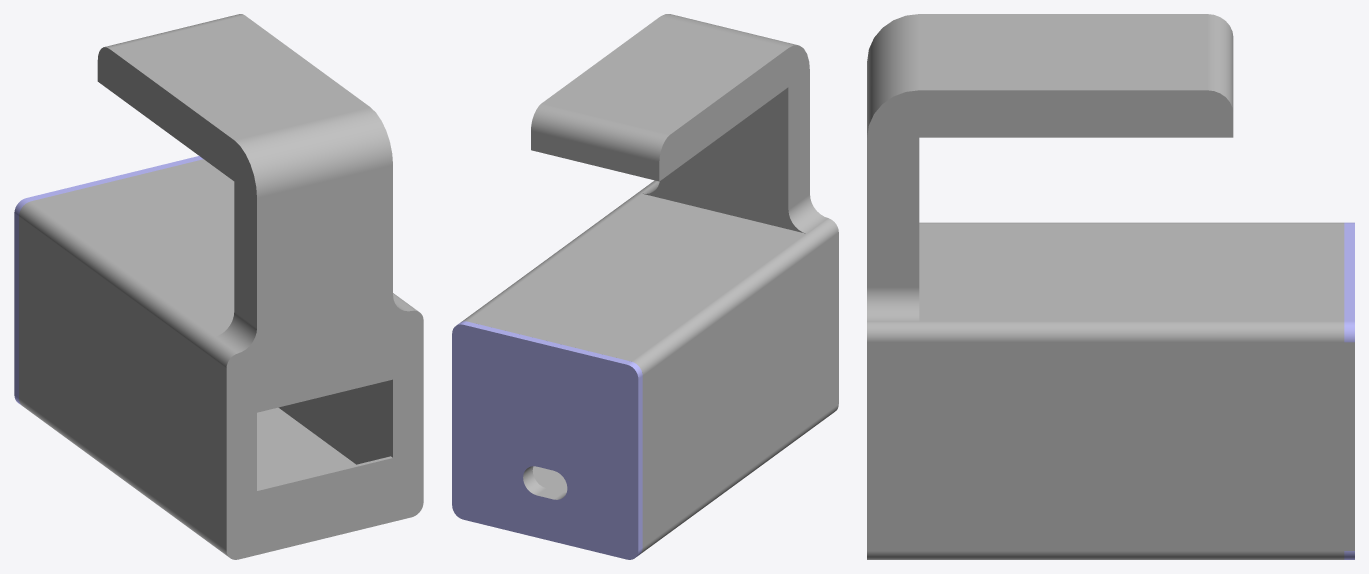
The model's file is esp32-case.glb.
The picture shows the model from 3 angles, left to right: view 1: azimuth 30°, elevation 25°; view 2: azimuth 150°, elevation 25°; view 3: azimuth 270°, elevation 25°; orthographic projection. The views are drawn at different scales.
Visible parts, largest first — view 1: sensore temp-1, tappo sensore temp-1; view 2: sensore temp-1, tappo sensore temp-1; view 3: sensore temp-1, tappo sensore temp-1.
Boxes of the visible parts, bbox=[...] form: sensore temp-1: bbox=[19, 14, 423, 559]; tappo sensore temp-1: bbox=[14, 156, 203, 404]; sensore temp-1: bbox=[461, 14, 838, 553]; tappo sensore temp-1: bbox=[452, 321, 642, 559]; sensore temp-1: bbox=[867, 14, 1344, 559]; tappo sensore temp-1: bbox=[1344, 222, 1354, 559].
Size of the model in its own units: 0.05 by 0.0965 by 0.0932.
